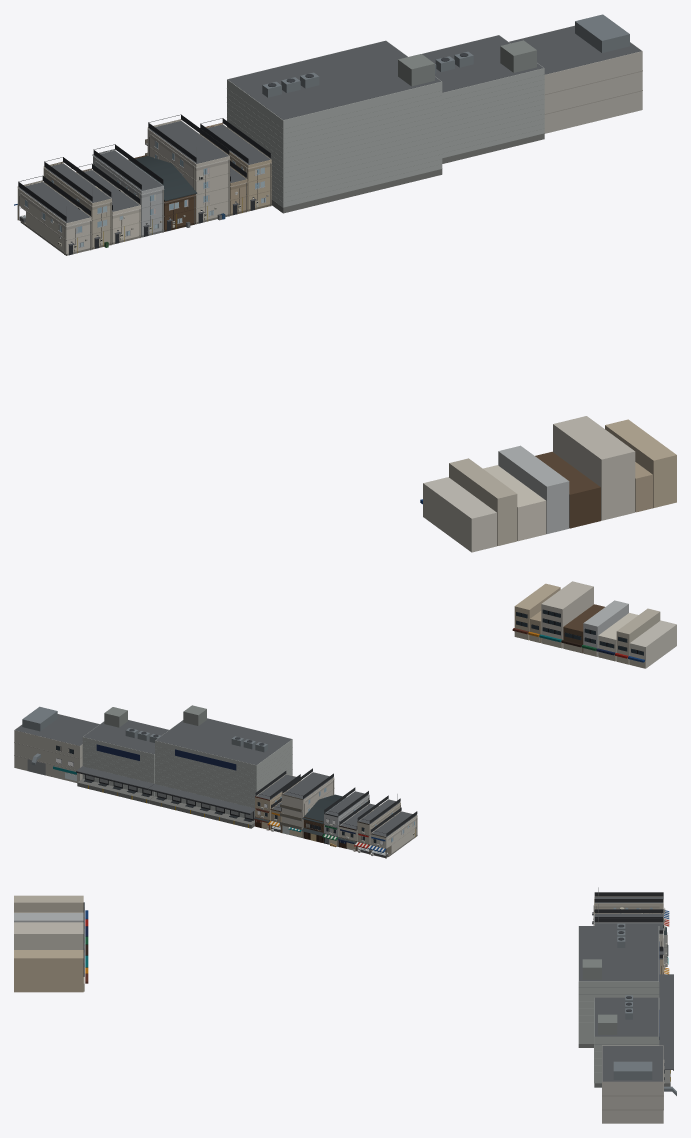
Rendered from ichiba.glb.
The picture shows the model from 3 angles, top to bottom: view 1: azimuth 30°, elevation 25°; view 2: azimuth 150°, elevation 25°; view 3: azimuth 270°, elevation 25°; orthographic projection. The views are drawn at different scales.
Visible parts, largest first — view 1: ichiba_cs_a_body, ichiba_cs_b_body, ichiba_ice_body, ichiba_f_body, ichiba_f_lo_mesh, ichiba_a_body, ichiba_a_lo_mesh, ichiba_d_body, ichiba_d_lo_mesh, ichiba_h_body, ichiba_b_body, ichiba_h_lo_mesh (+6 smaller); view 2: ichiba_cs_a_body, ichiba_cs_b_body, ichiba_ice_body, ichiba_f_body, ichiba_f_lo_mesh, ichiba_a_body, ichiba_a_lo_mesh, ichiba_d_body, ichiba_d_lo_mesh, ichiba_h_body, ichiba_b_body, ichiba_h_lo_mesh (+6 smaller); view 3: ichiba_cs_a_body, ichiba_ice_body, ichiba_cs_b_body, ichiba_h_lo_mesh, ichiba_f_lo_mesh, ichiba_b_body, ichiba_b_lo_mesh, ichiba_f_body, ichiba_d_body, ichiba_d_lo_mesh.
Boxes of the visible parts, x1,y1,x2,y2 form: ichiba_cs_a_body: (227,40,442,213); ichiba_cs_b_body: (422,35,544,163); ichiba_ice_body: (509,14,642,133); ichiba_f_body: (145,114,230,224); ichiba_f_lo_mesh: (553,416,635,520); ichiba_a_body: (14,175,91,255); ichiba_a_lo_mesh: (420,477,496,552); ichiba_d_body: (92,144,164,237); ichiba_d_lo_mesh: (498,445,569,533); ichiba_h_body: (199,118,271,211); ichiba_b_body: (43,157,112,249); ichiba_h_lo_mesh: (605,419,676,508); ichiba_cs_a_body: (148,705,292,828); ichiba_cs_b_body: (76,707,168,803); ichiba_ice_body: (14,706,99,782); ichiba_f_body: (280,768,334,838); ichiba_f_lo_mesh: (539,581,593,648); ichiba_a_body: (368,807,417,858); ichiba_a_lo_mesh: (628,620,676,668); ichiba_d_body: (322,787,369,847); ichiba_d_lo_mesh: (581,600,628,656); ichiba_h_body: (253,771,301,830); ichiba_b_body: (355,794,400,854); ichiba_h_lo_mesh: (512,583,560,640); ichiba_cs_a_body: (578,923,673,1047); ichiba_ice_body: (602,1045,676,1123); ichiba_cs_b_body: (594,995,673,1087); ichiba_h_lo_mesh: (14,950,88,992); ichiba_f_lo_mesh: (14,922,88,967); ichiba_b_body: (592,887,669,926); ichiba_b_lo_mesh: (14,895,88,926); ichiba_f_body: (594,914,668,966); ichiba_d_body: (593,904,665,929); ichiba_d_lo_mesh: (14,913,88,944).
Size of the model in its own units: 125 by 22.5 by 171.
